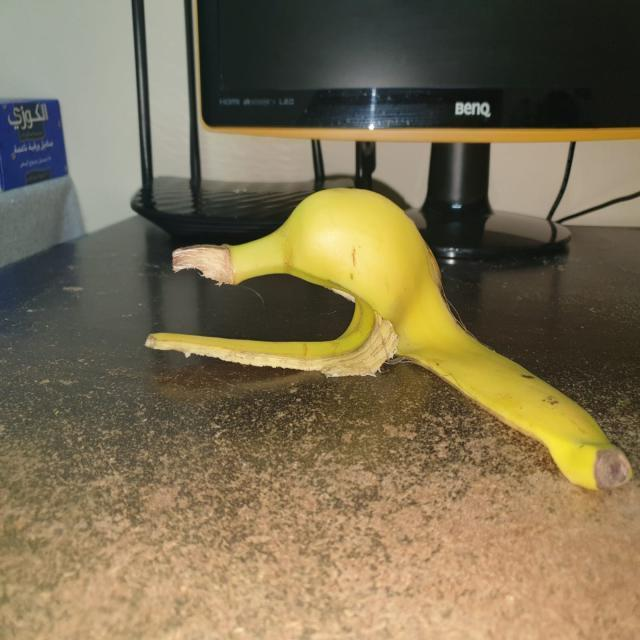banana-peel: (143, 185, 632, 492)
